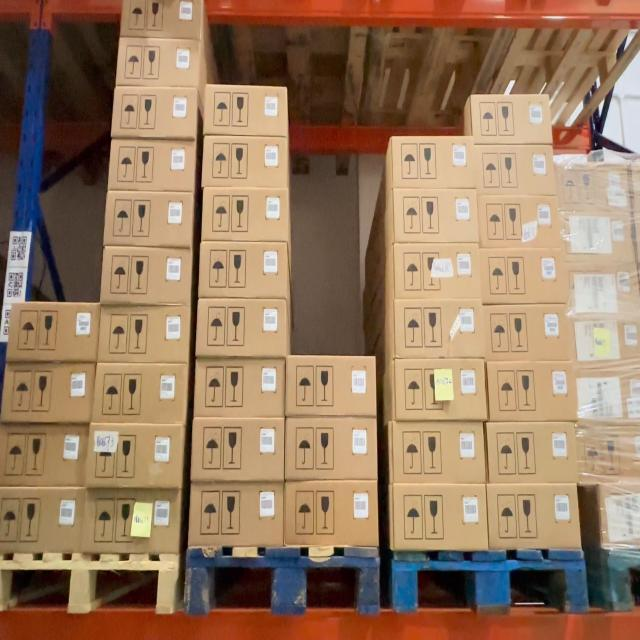box: (284, 480, 381, 547), (188, 481, 284, 546), (285, 416, 380, 481), (190, 416, 284, 481), (392, 484, 487, 548), (286, 353, 379, 417), (486, 421, 579, 484), (491, 484, 581, 548), (392, 423, 485, 483), (9, 302, 103, 361), (90, 426, 182, 486), (87, 492, 180, 550), (396, 360, 484, 420), (96, 366, 187, 424), (488, 363, 576, 422), (195, 360, 284, 418), (1, 488, 84, 550), (102, 248, 192, 305), (5, 365, 94, 422), (197, 299, 287, 355), (393, 300, 482, 356), (101, 306, 190, 362), (104, 193, 196, 247), (201, 242, 289, 298), (395, 244, 479, 301), (4, 426, 85, 484), (394, 190, 478, 245), (483, 248, 565, 304), (486, 304, 569, 359), (204, 136, 288, 189), (393, 136, 475, 189), (113, 89, 199, 139), (481, 195, 560, 249), (204, 191, 289, 241), (205, 86, 288, 137), (110, 141, 194, 190), (119, 38, 200, 88), (572, 368, 638, 426), (477, 146, 554, 195), (471, 96, 549, 144), (566, 264, 638, 316), (558, 164, 636, 211), (562, 211, 636, 259), (577, 426, 640, 480), (572, 316, 640, 364), (122, 0, 202, 39), (607, 488, 640, 546)
